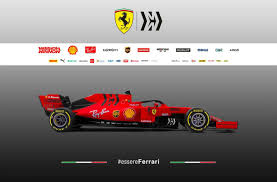f1_car: (34, 87, 242, 140)
